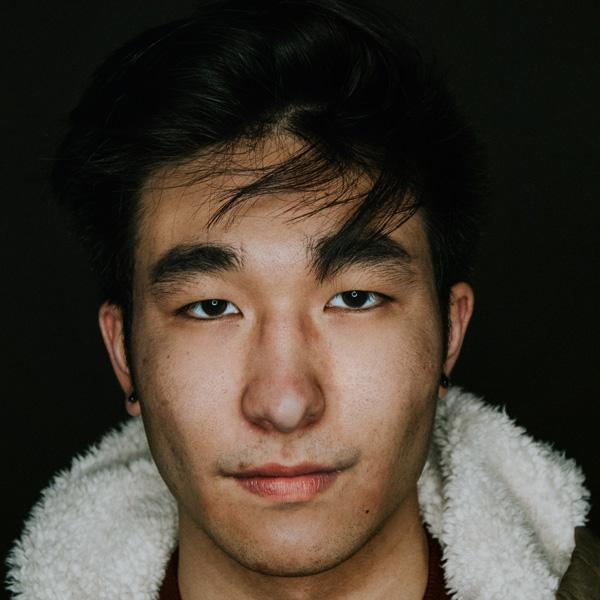Eyes: (312, 276, 408, 327), (164, 285, 252, 336)
